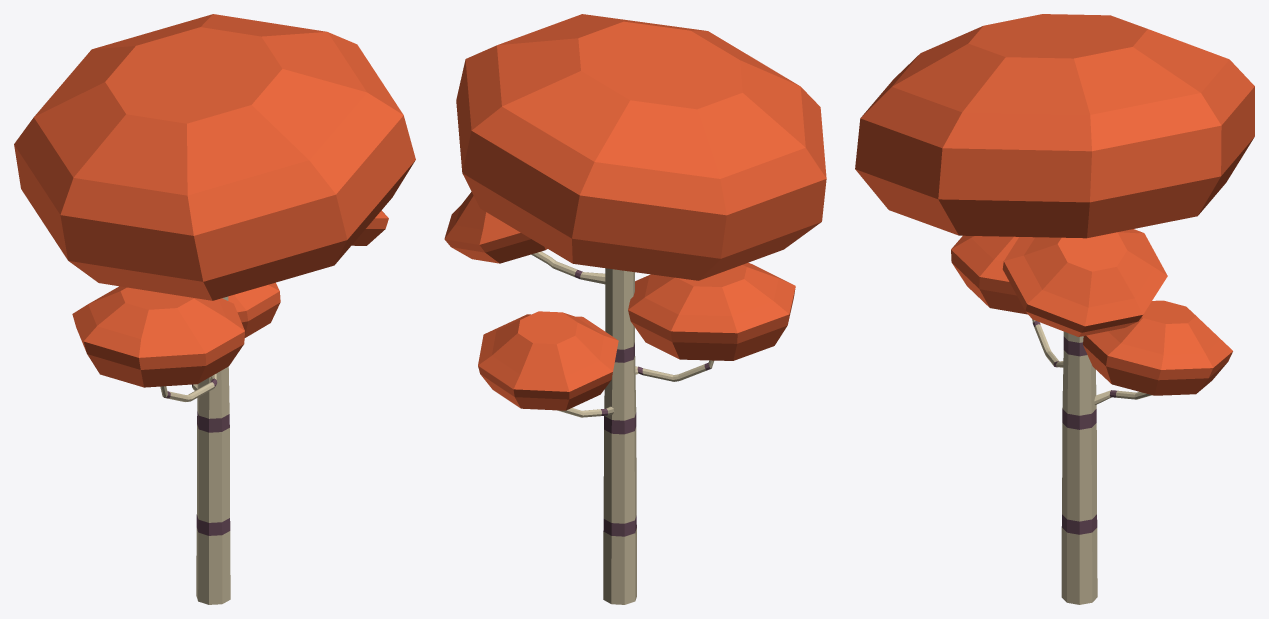
Rendered from Tree003_V2.fbx.
3 renders of one model, left to right at view 1: azimuth 30°, elevation 25°; view 2: azimuth 150°, elevation 25°; view 3: azimuth 270°, elevation 25°, orthographic. The views are drawn at different scales.
Visible parts, largest first — view 1: Tree003.001; view 2: Tree003.001; view 3: Tree003.001.
Boxes of the visible parts, x1=… form: Tree003.001: x1=14, y1=14, x2=415, y2=604; Tree003.001: x1=444, y1=14, x2=826, y2=604; Tree003.001: x1=855, y1=14, x2=1254, y2=604.
Bounding box in the file's own units: 4.46 × 6.76 × 4.36.
